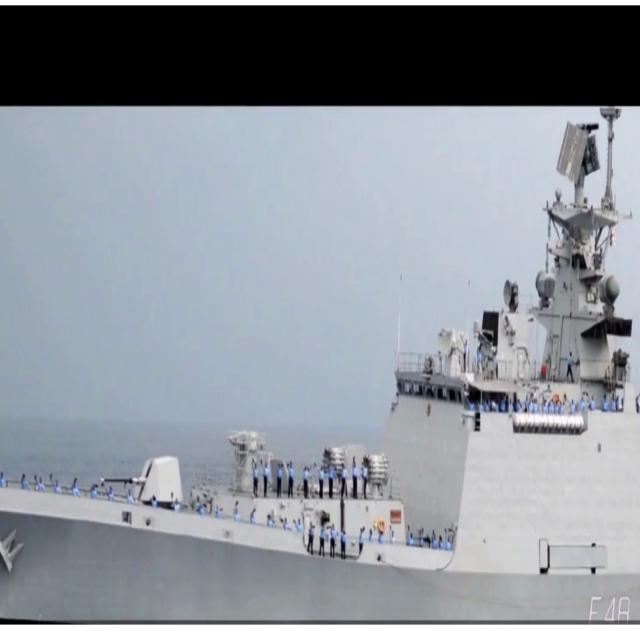OCR: (583, 587, 628, 624)
